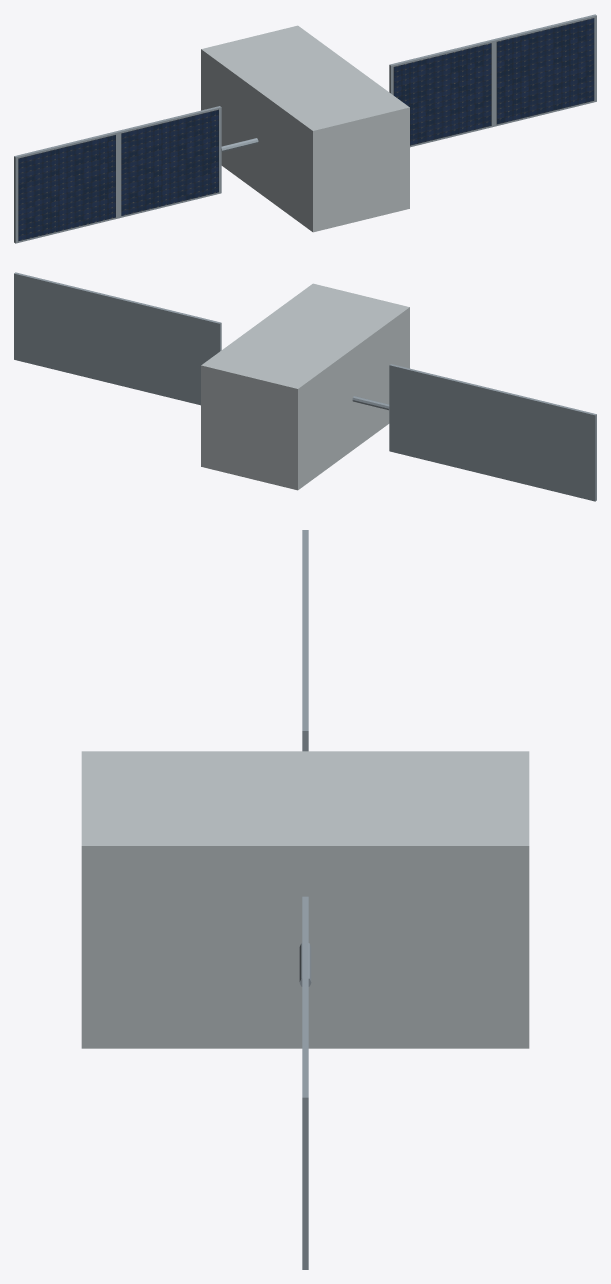
The model's file is ref-aerosp-59124.glb.
3 renders of one model, top to bottom at view 1: azimuth 30°, elevation 25°; view 2: azimuth 150°, elevation 25°; view 3: azimuth 270°, elevation 25°, orthographic. The views are drawn at different scales.
Parts seen in each view (by area): view 1: Photovoltaic laminates (×4), Spacecraft body, Array frame (×4); view 2: Array frame (×4), Spacecraft body; view 3: Spacecraft body, Array frame.
Part boxes in pixels (box(x1,y1,x2,y2)): Photovoltaic laminates (×4): box(18, 18, 594, 241); Spacecraft body: box(201, 25, 409, 232); Array frame (×4): box(14, 14, 596, 243); Array frame (×4): box(14, 272, 596, 501); Spacecraft body: box(201, 283, 409, 490); Spacecraft body: box(81, 751, 529, 1048); Array frame: box(302, 997, 308, 1269).
Bounding box in the file's own units: 3 × 0.5 × 1.
3 materials, 1 textured.
